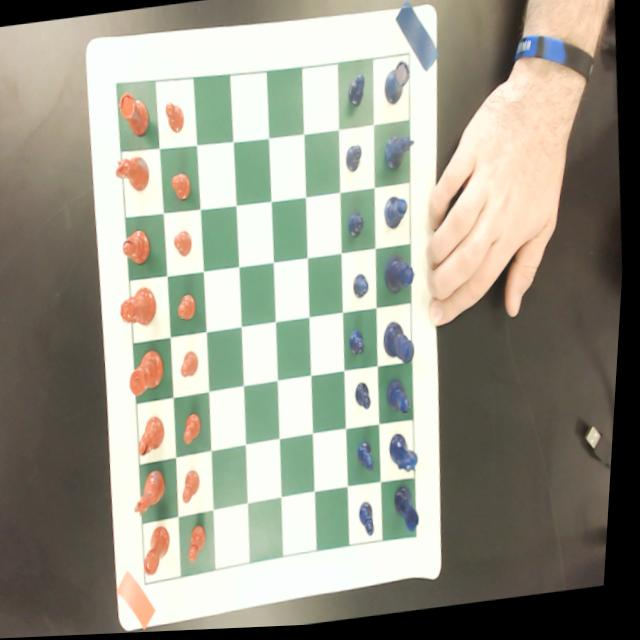B: (389, 380, 417, 419), (384, 198, 413, 235)
K: (385, 322, 421, 370)
N: (392, 434, 426, 479), (384, 135, 419, 177)
P: (361, 443, 383, 480), (346, 77, 369, 111), (363, 504, 383, 542), (358, 383, 379, 415), (346, 145, 366, 177), (349, 212, 369, 244), (351, 331, 370, 360), (355, 276, 374, 304)
Q: (385, 257, 420, 300)
R: (397, 487, 429, 539), (383, 64, 415, 111)
b: (139, 416, 171, 457), (123, 229, 155, 268)
k: (130, 350, 170, 398)
n: (136, 470, 175, 521), (116, 153, 153, 197)
p: (192, 525, 216, 567), (185, 413, 209, 448), (165, 100, 188, 136), (186, 471, 208, 507), (171, 171, 195, 204), (179, 294, 200, 323), (182, 352, 204, 379), (175, 232, 196, 260)
q: (121, 286, 162, 331)
r: (116, 88, 154, 142), (146, 526, 181, 578)
